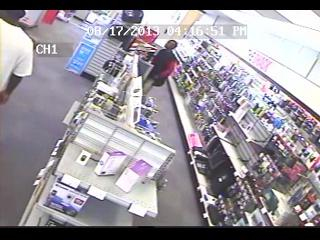Normal: (0, 11, 35, 105), (142, 40, 180, 95)
